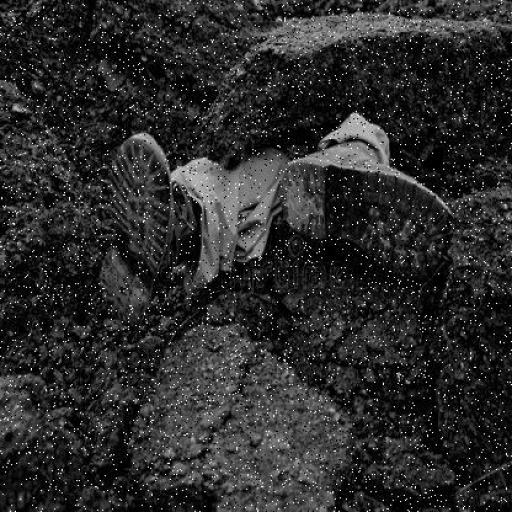safety_shoe: (284, 138, 458, 290), (99, 133, 198, 333)
